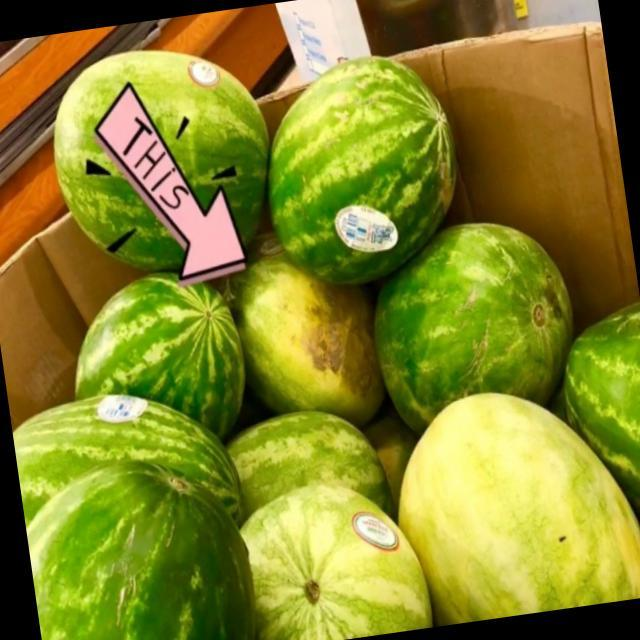WATERMELON: (388, 371, 640, 629), (42, 35, 274, 269), (362, 192, 586, 425), (255, 52, 465, 276), (22, 454, 258, 640), (9, 378, 248, 524), (228, 216, 390, 422), (235, 475, 432, 640), (61, 271, 244, 427), (226, 379, 404, 523), (547, 286, 640, 528)
